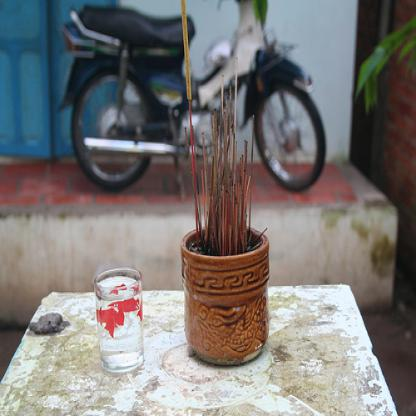motorbike: (52, 0, 328, 191)
pottedplant: (180, 0, 271, 368)
